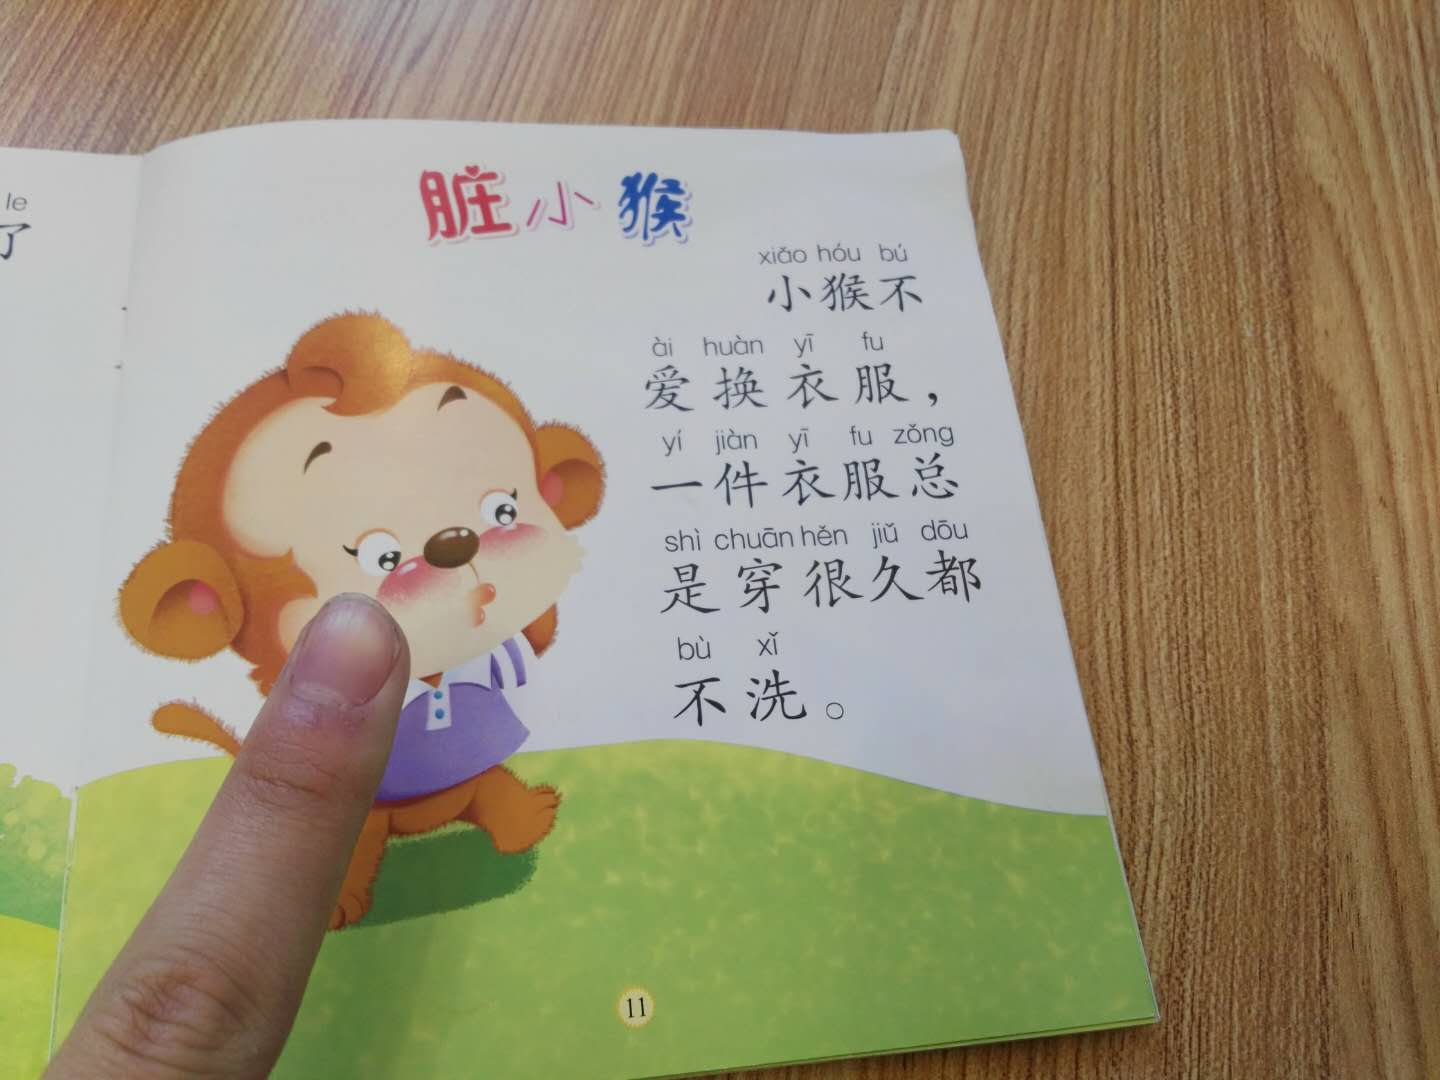finger: (242, 548, 460, 879)
